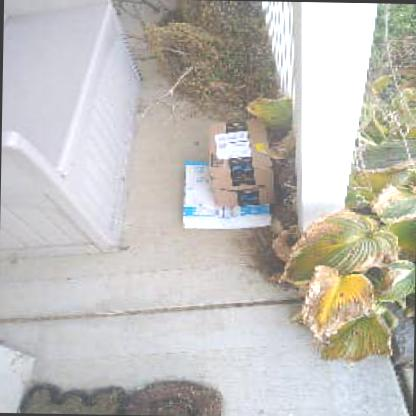box: (207, 120, 276, 208)
plastic_bag: (181, 158, 272, 232)
